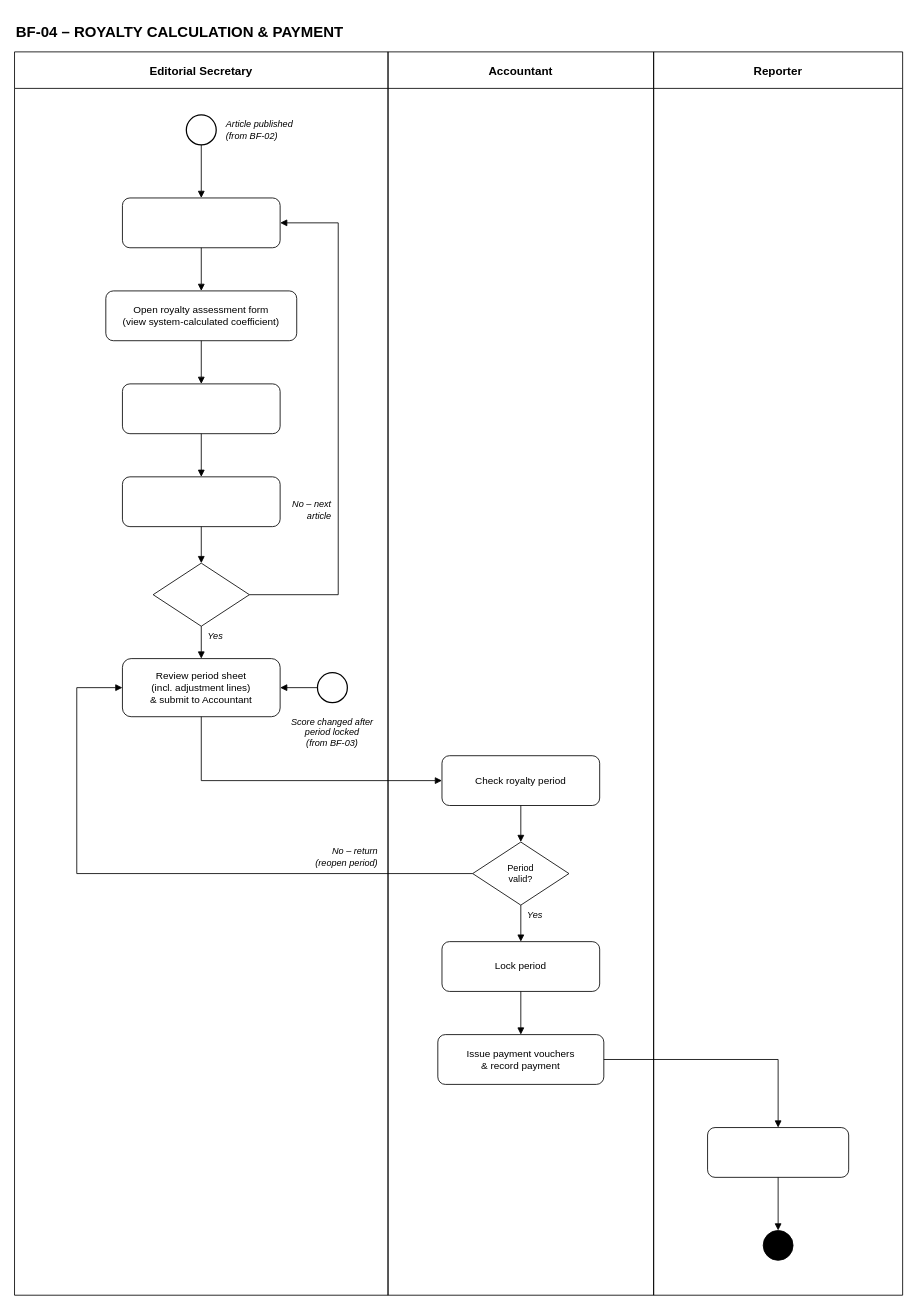
This 917x1310 diagram has some shape labels left out. Here are the shapes that lost their labels. From the top down, the centre of each, then its label:
(201,222): Review royalty queue (payment deadline warnings)
(201,408): Assess images / videos (fixed coefficient by type)
(201,501): Complete assessment (article joins open period)
(200,594): Month-end?
(778,1152): View & reconcile my royalties
